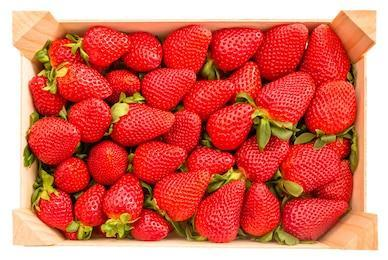Fresa: (253, 69, 319, 131), (277, 192, 354, 245), (298, 78, 360, 140), (299, 22, 354, 91), (275, 138, 343, 193), (191, 176, 243, 245), (108, 100, 179, 150), (234, 126, 291, 186), (254, 22, 309, 84), (150, 168, 207, 227), (25, 114, 83, 170), (205, 26, 268, 77), (159, 22, 214, 78), (138, 64, 197, 116), (204, 101, 259, 155), (74, 23, 134, 72), (239, 178, 284, 242), (131, 139, 189, 188), (181, 73, 237, 123), (65, 95, 116, 148), (54, 61, 113, 104), (31, 186, 77, 237), (102, 171, 144, 224), (119, 27, 165, 75), (72, 181, 113, 231), (27, 72, 70, 119), (183, 143, 237, 178), (126, 206, 174, 243)
